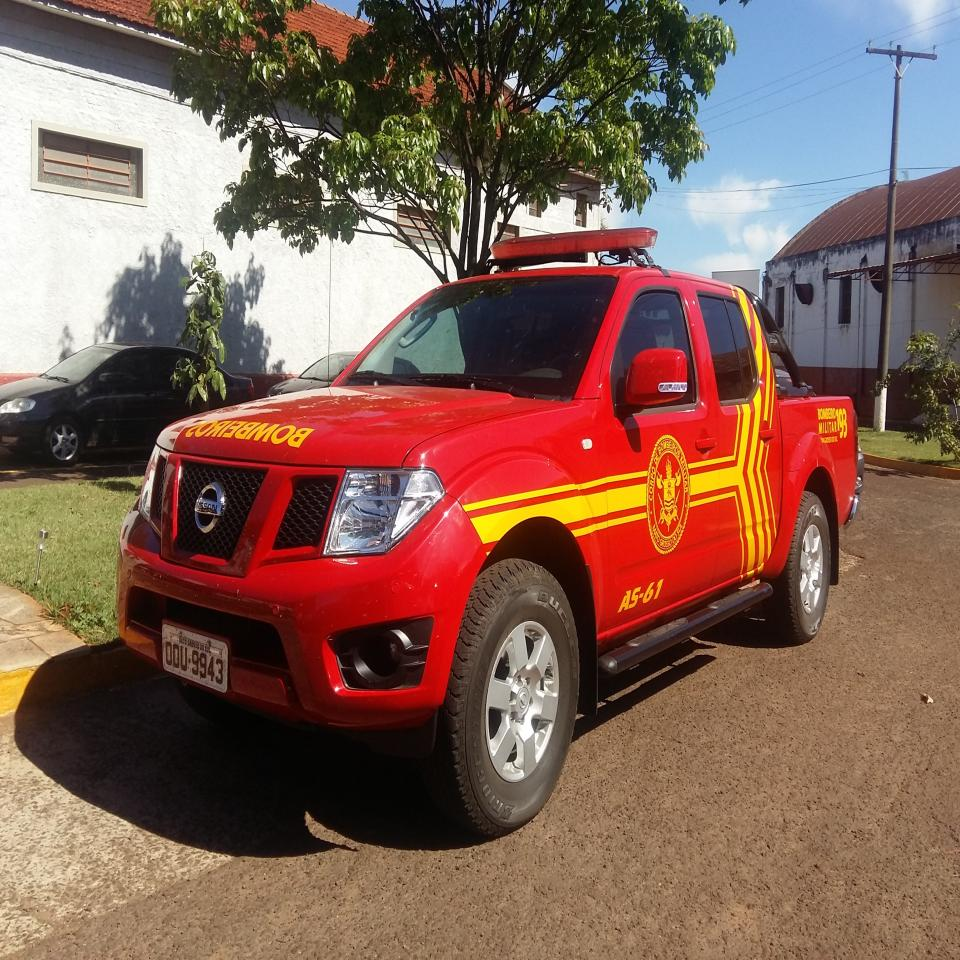viatura: (116, 226, 866, 836)
